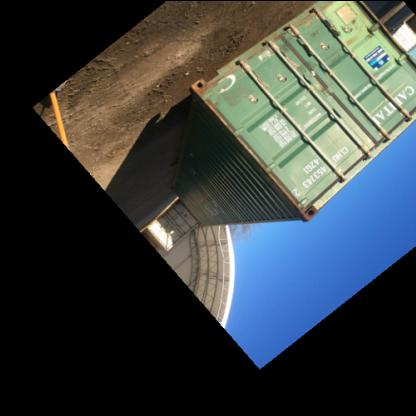Damage: (217, 76, 251, 116), (274, 34, 300, 62), (299, 26, 321, 51)
